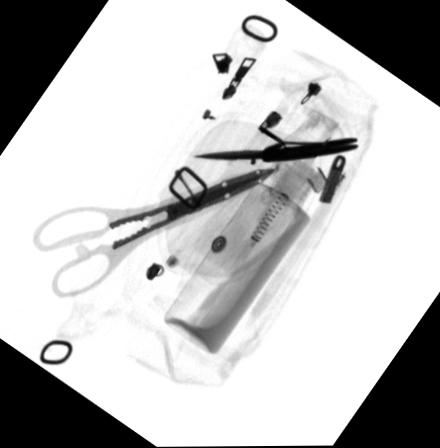Knife: (190, 137, 360, 163)
Scissors: (31, 167, 276, 302)
